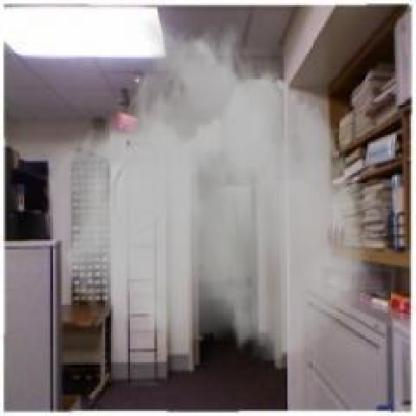Smoke: (41, 13, 391, 365)
